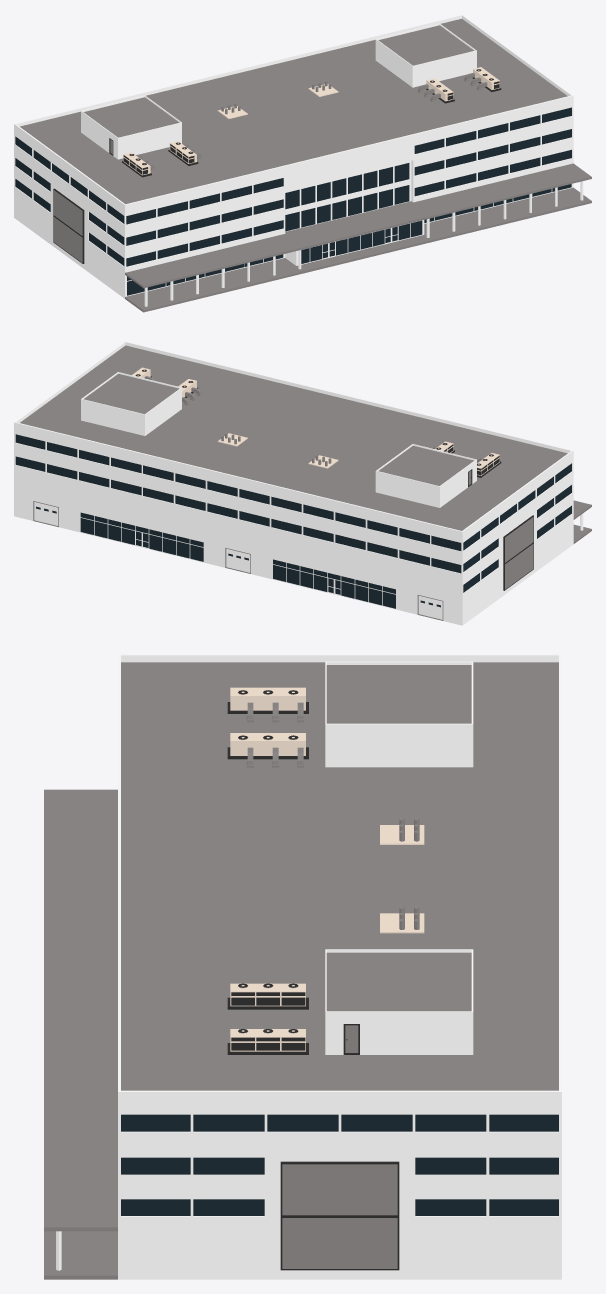
The model's file is airport-terminal.glb.
The picture shows the model from 3 angles, top to bottom: view 1: azimuth 30°, elevation 25°; view 2: azimuth 150°, elevation 25°; view 3: azimuth 270°, elevation 25°; orthographic projection. The views are drawn at different scales.
Visible parts, largest first — view 1: airport-terminal; view 2: airport-terminal; view 3: airport-terminal.
Part boxes in pixels (x1,y1,x2,y2): airport-terminal: (14,14,591,312); airport-terminal: (14,341,591,625); airport-terminal: (44,654,561,1279).
Bounding box in the file's own units: 70.4 × 16.7 × 35.
Materials: 1 (1 with a texture image).
